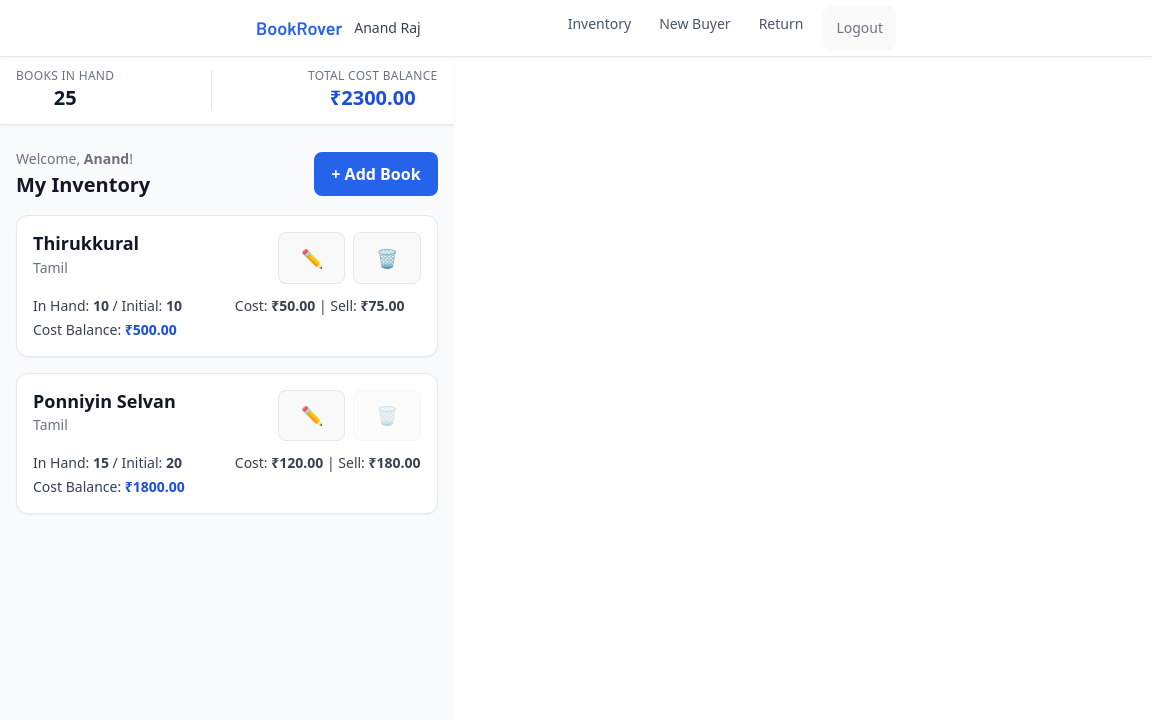
Test: InventoryPage › shows confirmation dialog when remove is clicked
Click the button named "Remove Thirukkural" at (387, 258), box [353, 232, 421, 284]
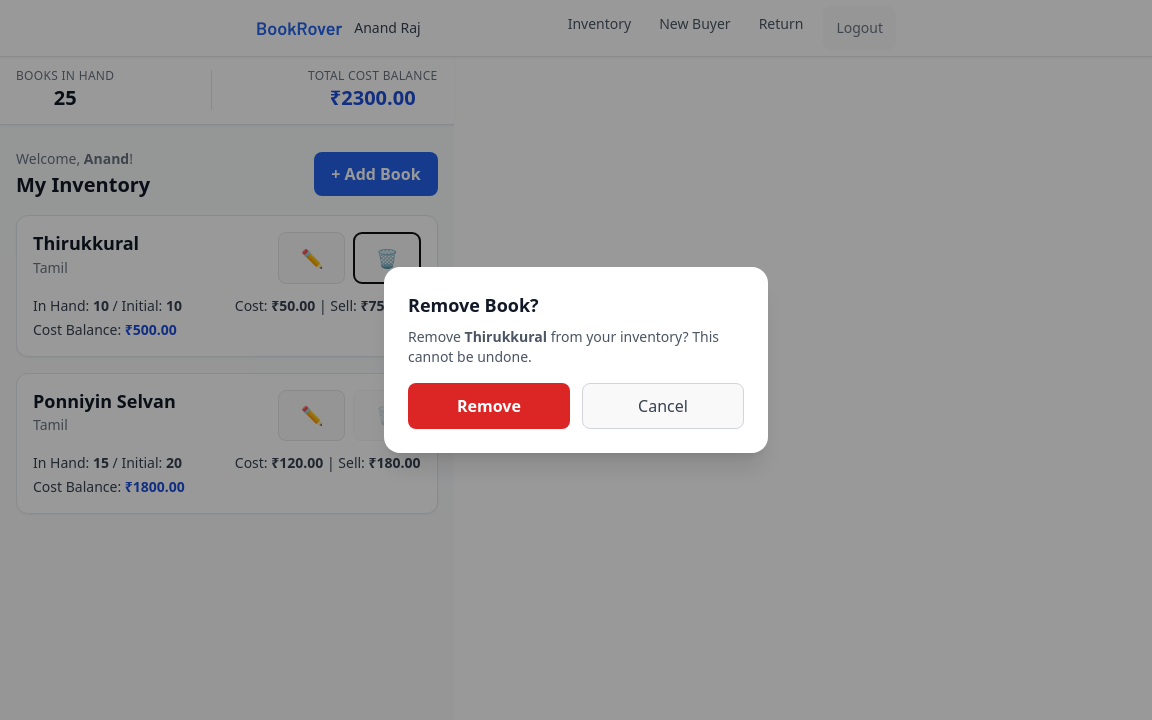
Expected: the dialog is shown
Expected: the heading "Remove Book?" is shown, [408, 293, 539, 317]
Expected: the text "from your inventory" is shown, [408, 327, 719, 366]
